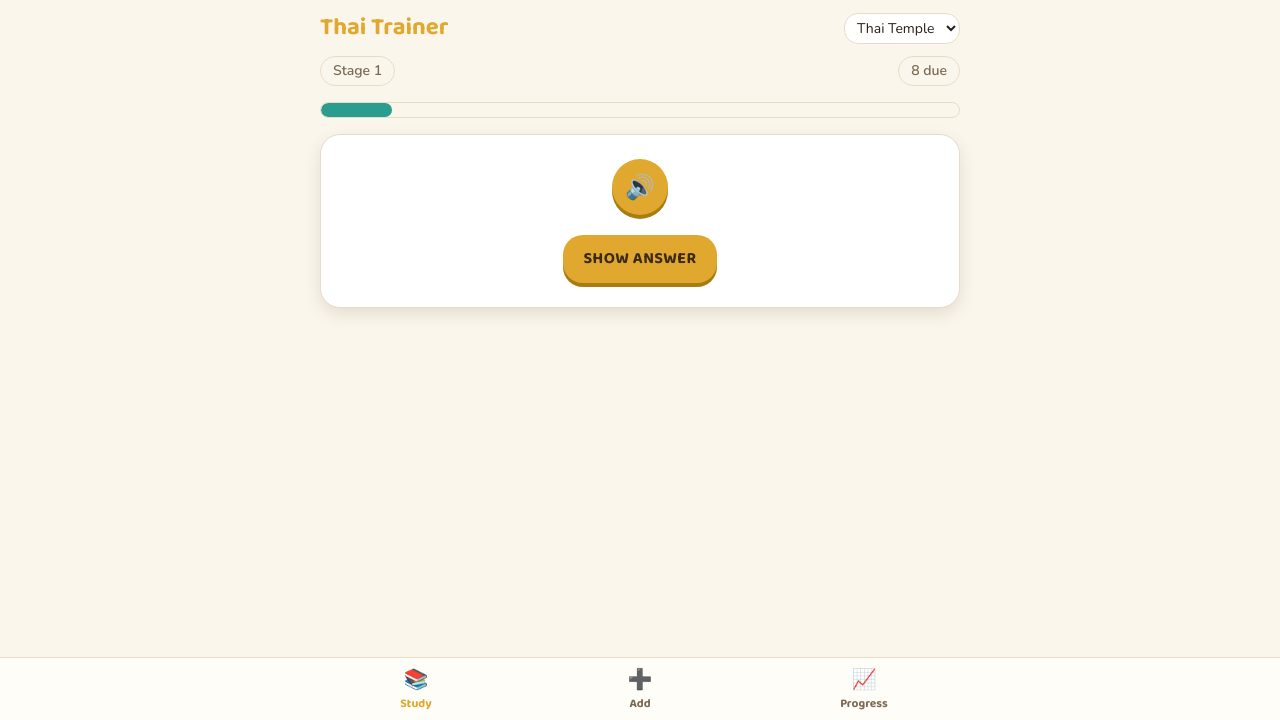
App › switches to the Add card screen via the bottom nav
Click the button "➕ Add".
click(640, 689)  # box [528,658,752,719]
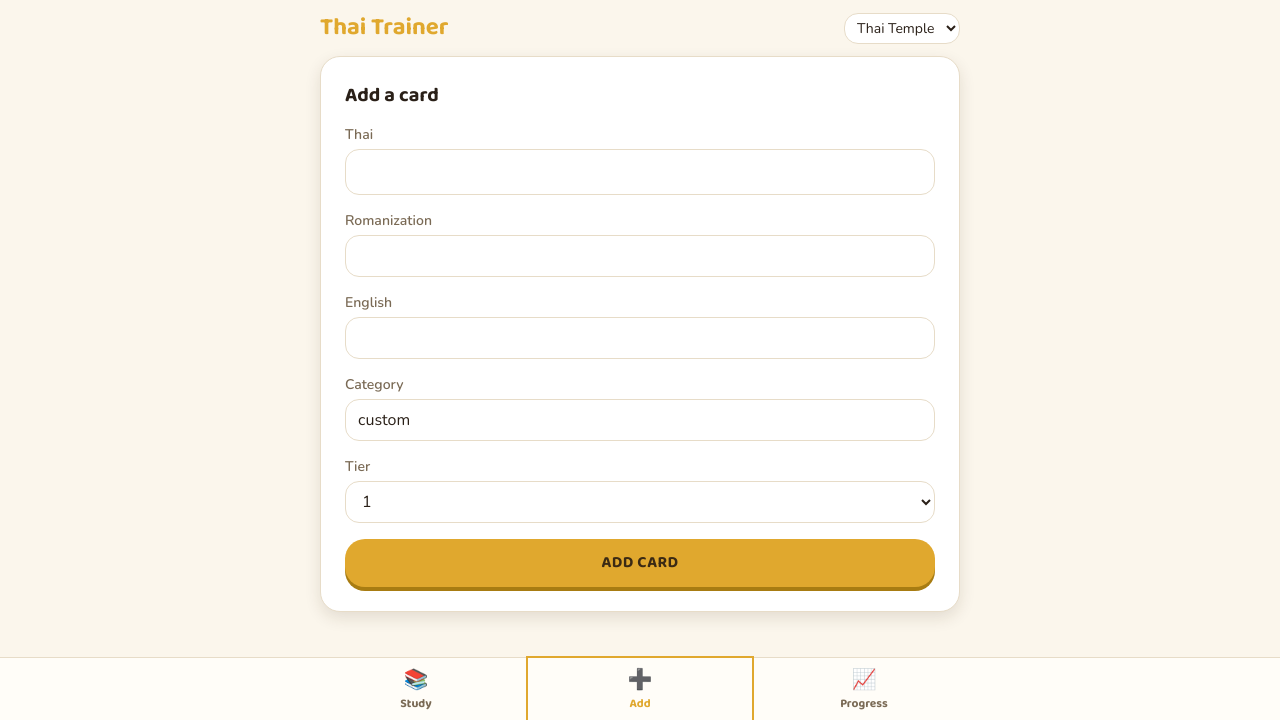
expect the button "Add card" is shown: met, box [345,539,935,587]
